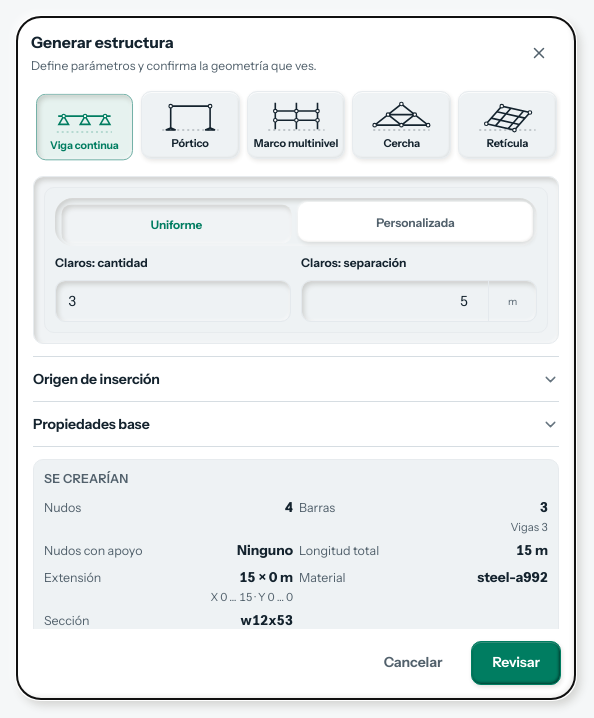
Test: separaciones personalizadas › vuelve a uniforme sin perder lo escrito en la lista
Click the radio button labelled "Personalizada" at (416,222), box [298, 202, 533, 242]
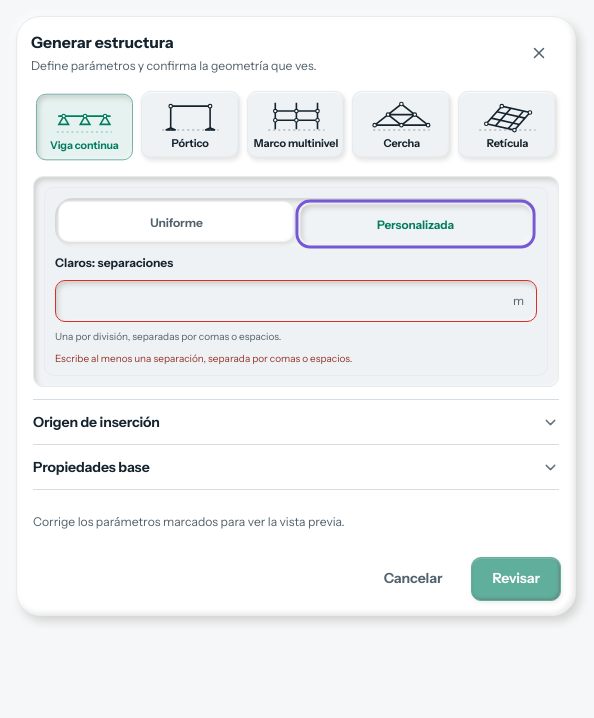
Type "4, 6" into the field labelled "Claros: separaciones" at (280,301), box [56, 281, 505, 321]
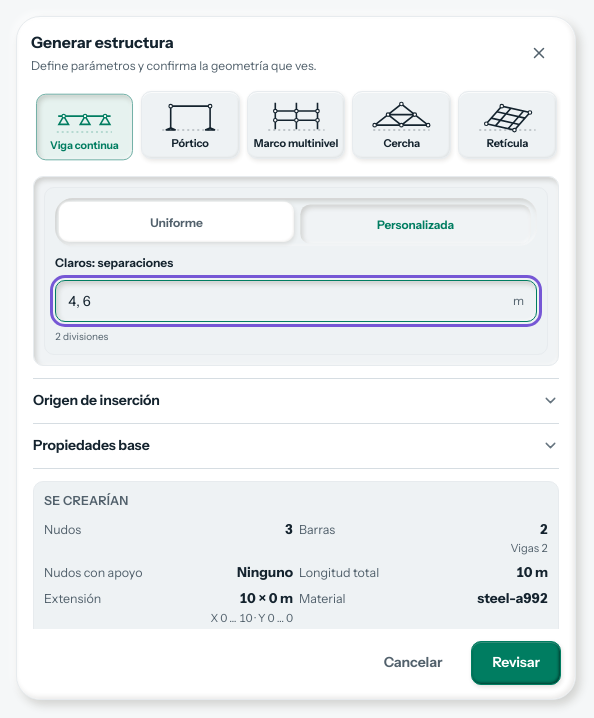
Click the radio button labelled "Uniforme" at (176,222), box [59, 202, 294, 242]
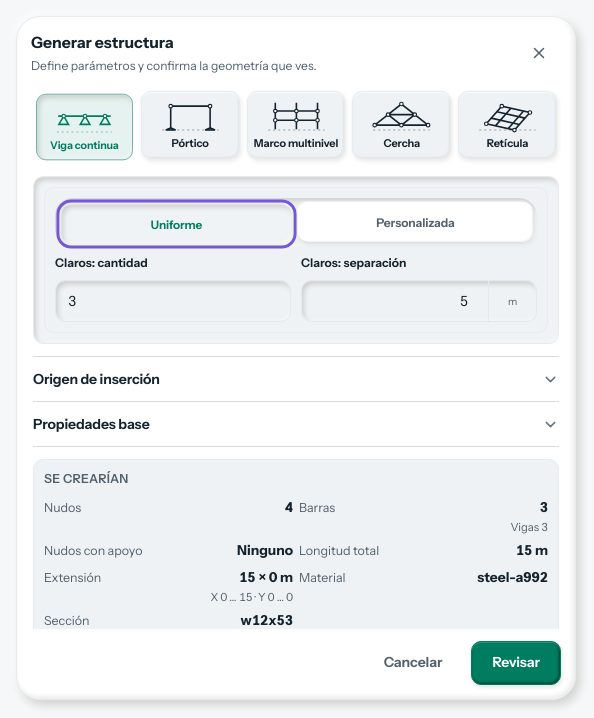
Click the radio button labelled "Personalizada" at (416,222), box [298, 202, 533, 242]
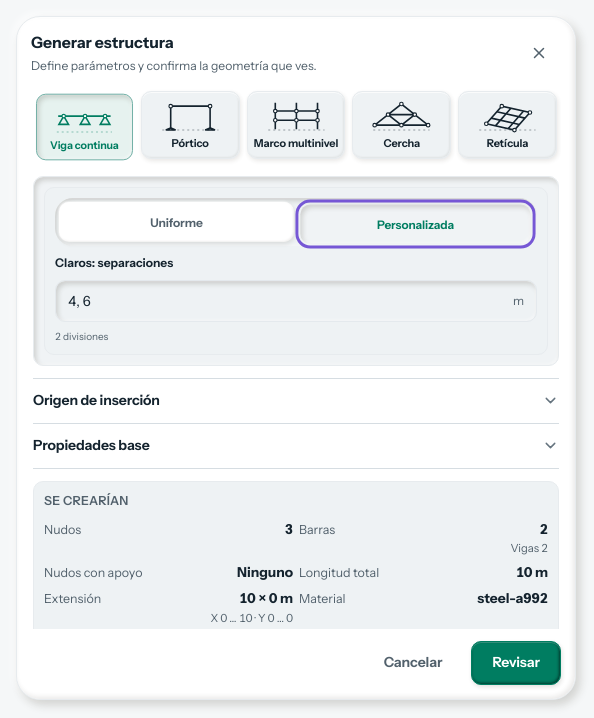
Check: the field labelled "Claros: separaciones" holds "4, 6", box [56, 281, 505, 321]
